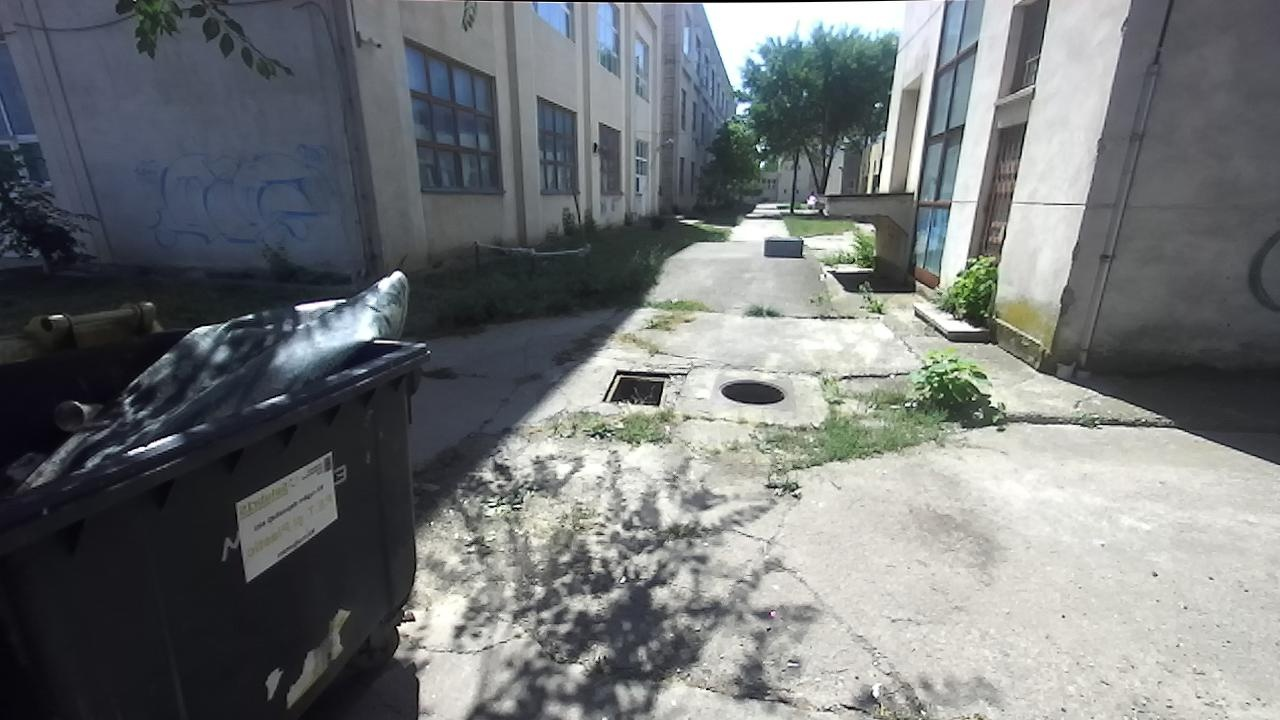drain: (596, 366, 673, 408), (711, 374, 788, 406)
